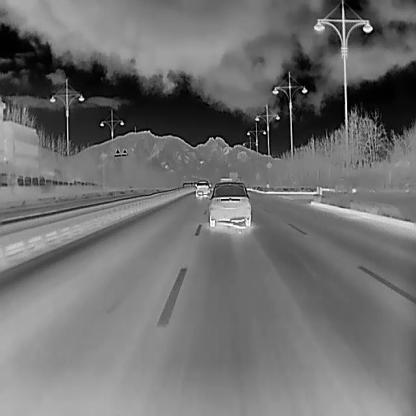car: (208, 181, 250, 227), (193, 179, 211, 197)
